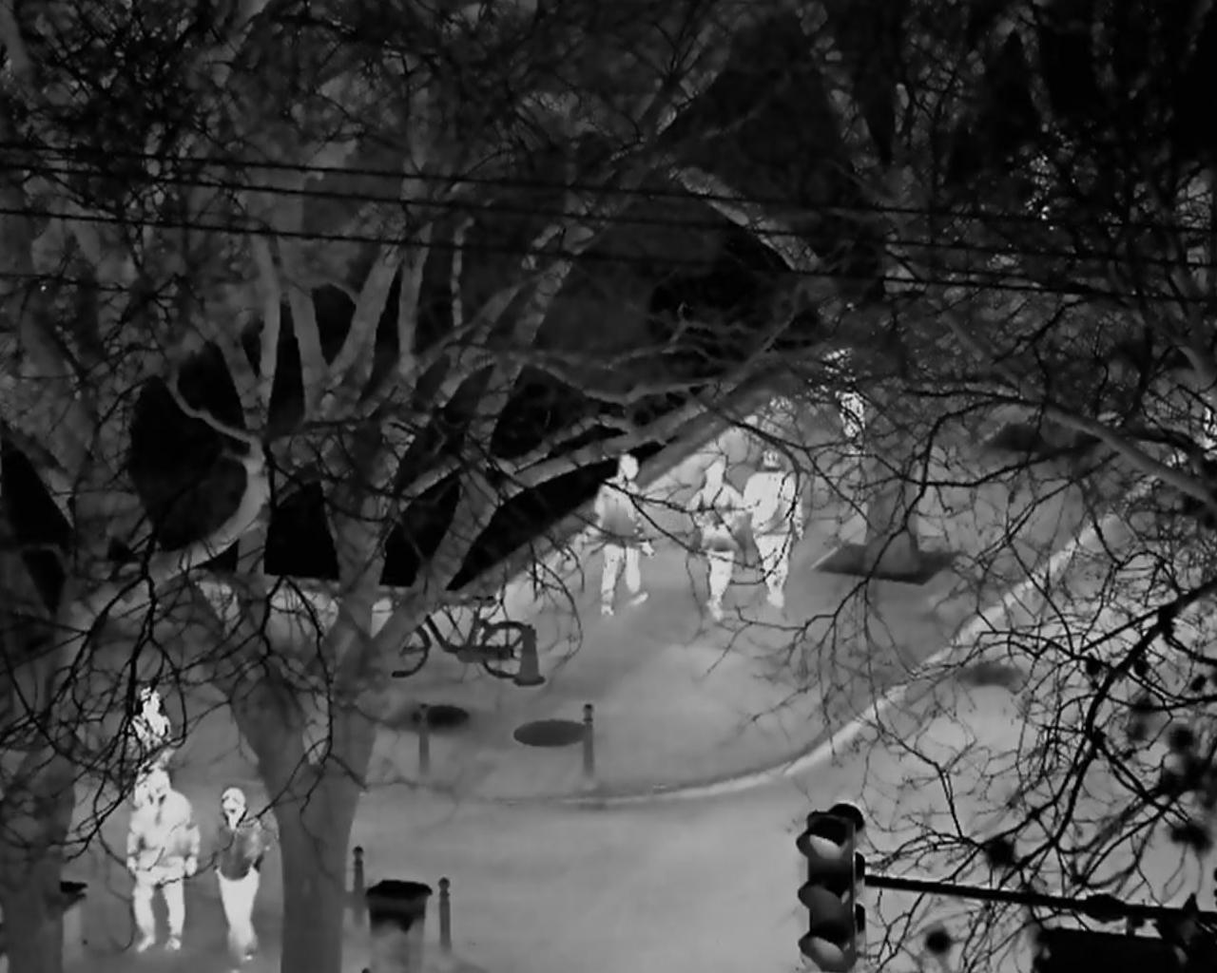person: (125, 769, 198, 953), (590, 452, 652, 619), (742, 446, 803, 609), (215, 786, 264, 965), (689, 454, 741, 622), (123, 688, 174, 772)
